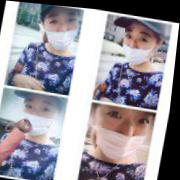OK: (21, 92, 63, 140)
WRONG: (94, 93, 160, 163), (40, 4, 83, 52), (121, 20, 160, 65)
